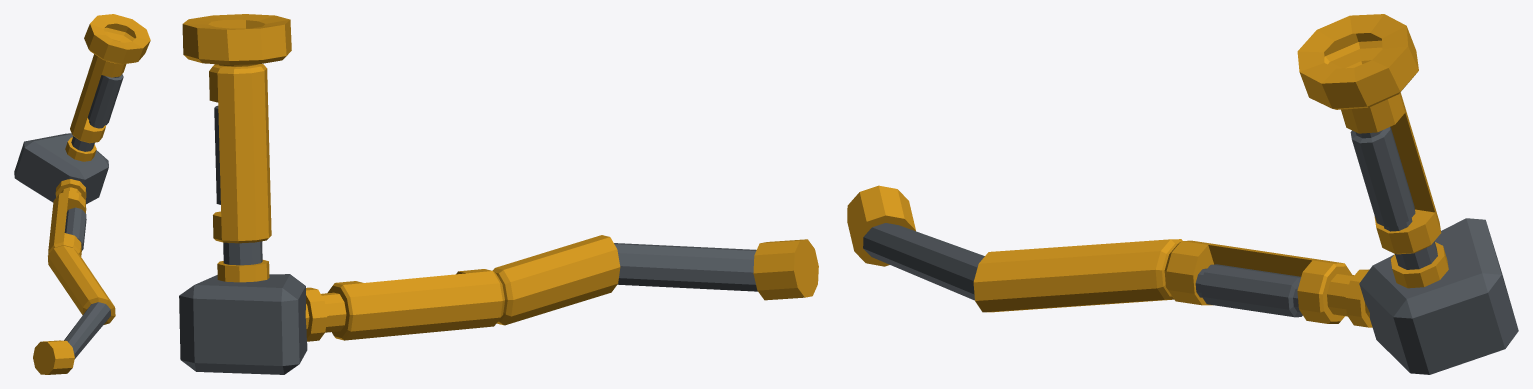
The model's file is Fighter_03_Leg_Frame_Left_Yellow.fbx.
3 renders of one model, left to right at view 1: azimuth 30°, elevation 25°; view 2: azimuth 150°, elevation 25°; view 3: azimuth 270°, elevation 25°, orthographic. The views are drawn at different scales.
Parts seen in each view (by area): view 1: Fighter_03_Leg_Frame_Left_Yellow; view 2: Fighter_03_Leg_Frame_Left_Yellow; view 3: Fighter_03_Leg_Frame_Left_Yellow.
Part boxes in pixels (bbox=[...]): Fighter_03_Leg_Frame_Left_Yellow: bbox=[14, 14, 150, 374]; Fighter_03_Leg_Frame_Left_Yellow: bbox=[179, 14, 818, 374]; Fighter_03_Leg_Frame_Left_Yellow: bbox=[847, 14, 1518, 374].
Size of the model in its own units: 155 by 135 by 205.
Materials: 1 (1 with a texture image).
